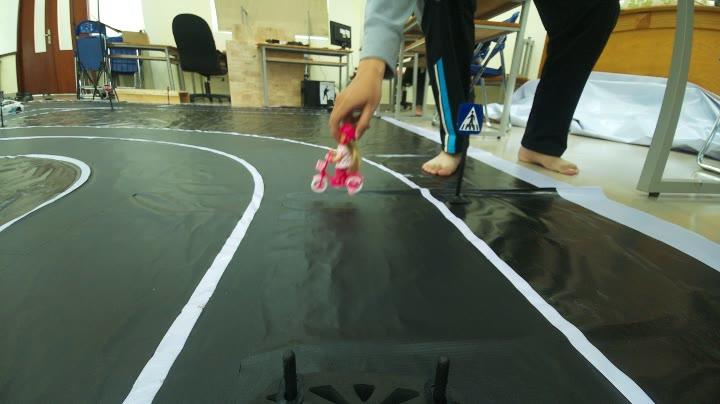crosswalk: (448, 98, 488, 143)
pedestrian: (318, 118, 366, 196)
